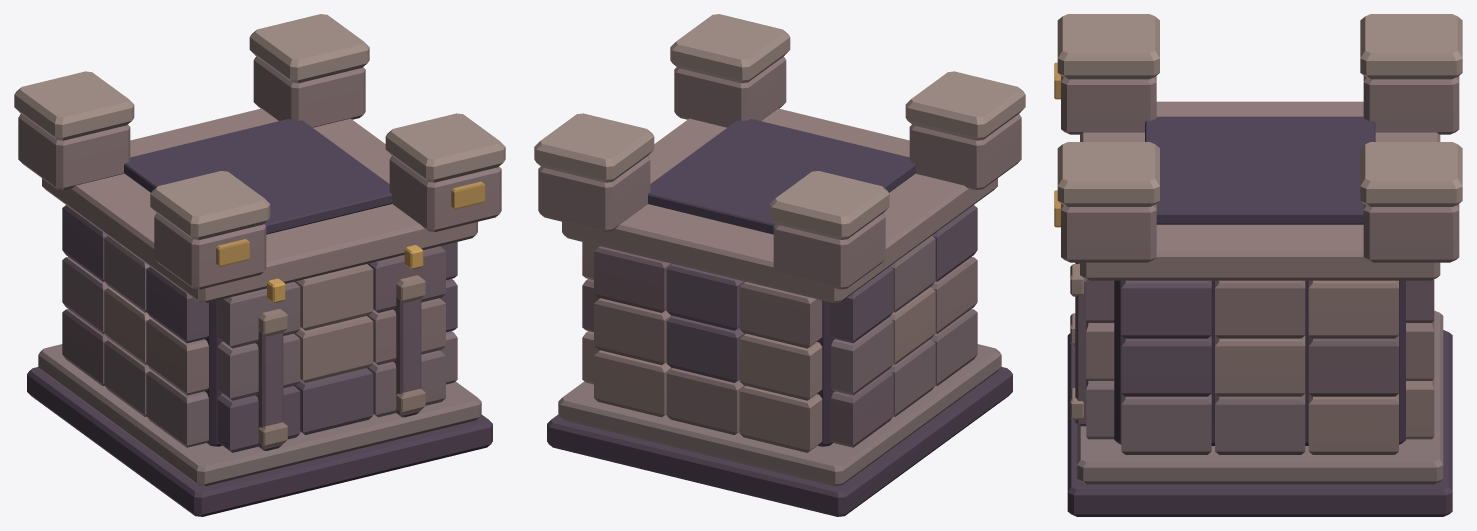
The model's file is guardian-hd.glb.
The picture shows the model from 3 angles, left to right: view 1: azimuth 30°, elevation 25°; view 2: azimuth 150°, elevation 25°; view 3: azimuth 270°, elevation 25°; orthographic projection. The views are drawn at different scales.
Visible parts, largest first — view 1: guardian-hd; view 2: guardian-hd; view 3: guardian-hd.
Boxes of the visible parts, x1,y1,x2,y2 form: guardian-hd: (14,14,505,516); guardian-hd: (534,14,1025,516); guardian-hd: (1054,14,1462,516).
Size of the model in its own units: 56.2 by 52 by 56.68.
